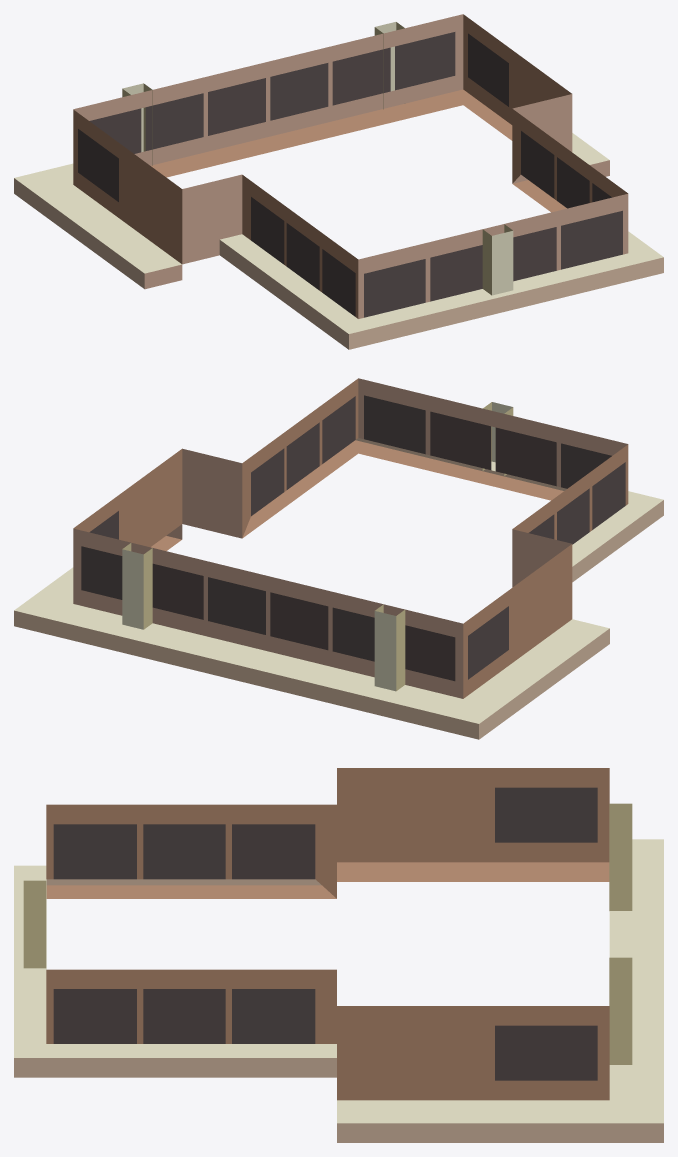
File: TB_CITY_Skysc_B_BodyC_Brown.FBX
The picture shows the model from 3 angles, top to bottom: view 1: azimuth 30°, elevation 25°; view 2: azimuth 150°, elevation 25°; view 3: azimuth 270°, elevation 25°; orthographic projection. The views are drawn at different scales.
Visible parts, largest first — view 1: TB_CITY_Skysc_B_BodyC_Brown; view 2: TB_CITY_Skysc_B_BodyC_Brown; view 3: TB_CITY_Skysc_B_BodyC_Brown.
Boxes of the visible parts, left/top/right/bottom form: TB_CITY_Skysc_B_BodyC_Brown: left=14, top=14, right=663, bottom=349; TB_CITY_Skysc_B_BodyC_Brown: left=14, top=378, right=663, bottom=739; TB_CITY_Skysc_B_BodyC_Brown: left=14, top=768, right=663, bottom=1142.
Bounding box in the file's own units: 31 × 5.8 × 30.
